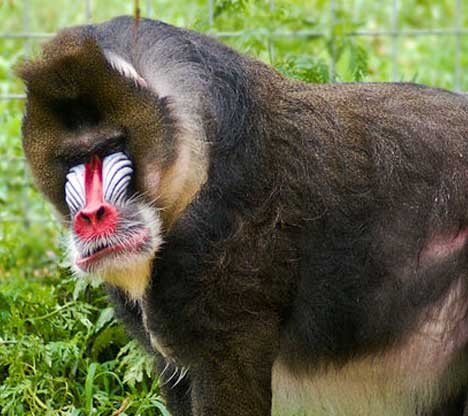Mandrill: (23, 29, 458, 392)
